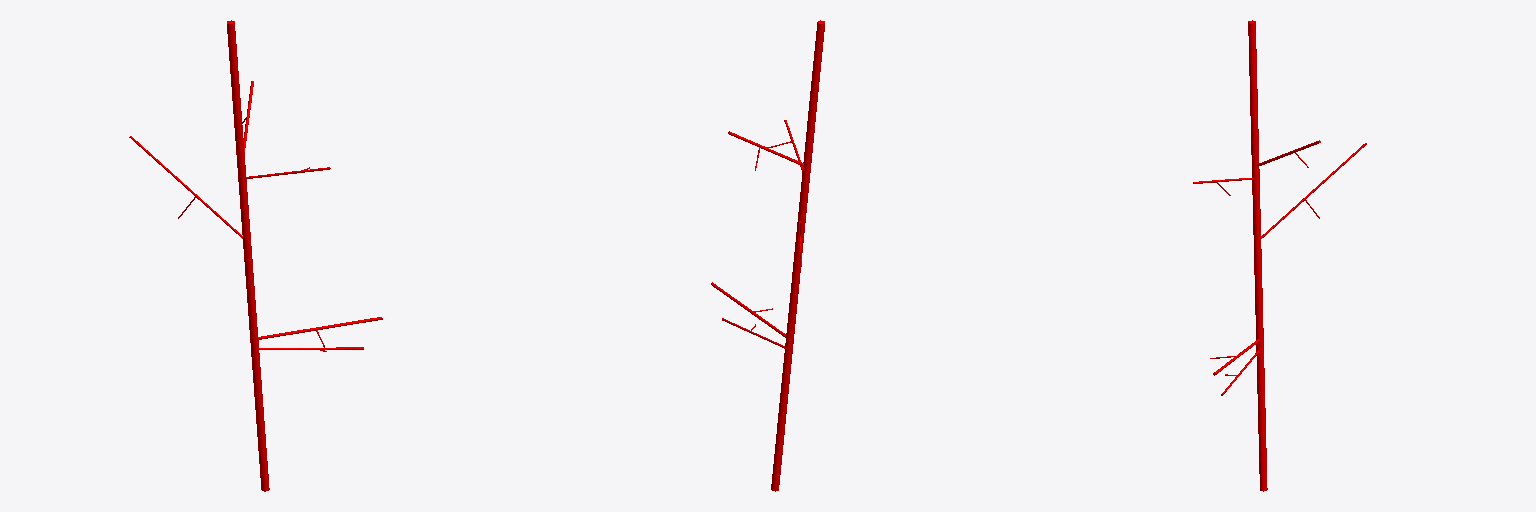
URDF robot description (tree_33.urdf):
<?xml version='1.0' encoding='UTF-8'?>
<robot name="tree_33.urdf">
  <link name="branch_0">
    <inertial>
      <origin xyz="0.0 0.0 0.0" rpy="0.0 -0.0 0.0"/>
      <mass value="0.1"/>
      <inertia ixx="0.001" ixy="0.0" ixz="0.0" iyy="0.001" iyz="0.0" izz="0.001"/>
    </inertial>
    <visual name="branch_0_visual">
      <geometry>
        <cylinder radius="0.05675759122214623" length="7.374856925056896"/>
      </geometry>
      <material name="semantic_material"/>
      <origin xyz="-0.3271929439132334 -0.08699261032029912 3.6718531737350233" rpy="0.0 0.09194417836399459 -2.8817289833350492"/>
    </visual>
    <collision name="branch_0_collision">
      <geometry>
        <cylinder radius="0.05675759122214623" length="7.374856925056896"/>
      </geometry>
      <origin xyz="-0.3271929439132334 -0.08699261032029912 3.6718531737350233" rpy="0.0 0.09194417836399459 -2.8817289833350492"/>
    </collision>
  </link>
  <link name="branch_1">
    <inertial>
      <origin xyz="0.0 0.0 0.0" rpy="0.0 -0.0 0.0"/>
      <mass value="0.1"/>
      <inertia ixx="0.001" ixy="0.0" ixz="0.0" iyy="0.001" iyz="0.0" izz="0.001"/>
    </inertial>
    <visual name="branch_1_visual">
      <geometry>
        <cylinder radius="0.017067360384932978" length="1.30695910070071"/>
      </geometry>
      <material name="semantic_material"/>
      <origin xyz="0.0 0.0 0.0" rpy="0.0 -0.0 0.0"/>
    </visual>
    <collision name="branch_1_collision">
      <geometry>
        <cylinder radius="0.017067360384932978" length="1.30695910070071"/>
      </geometry>
      <origin xyz="0.0 0.0 0.0" rpy="0.0 -0.0 0.0"/>
    </collision>
  </link>
  <link name="branch_2">
    <inertial>
      <origin xyz="0.0 0.0 0.0" rpy="0.0 -0.0 0.0"/>
      <mass value="0.1"/>
      <inertia ixx="0.001" ixy="0.0" ixz="0.0" iyy="0.001" iyz="0.0" izz="0.001"/>
    </inertial>
    <visual name="branch_2_visual">
      <geometry>
        <cylinder radius="0.01" length="0.3769168148098221"/>
      </geometry>
      <material name="semantic_material"/>
      <origin xyz="0.0 0.0 0.0" rpy="0.0 -0.0 0.0"/>
    </visual>
    <collision name="branch_2_collision">
      <geometry>
        <cylinder radius="0.01" length="0.3769168148098221"/>
      </geometry>
      <origin xyz="0.0 0.0 0.0" rpy="0.0 -0.0 0.0"/>
    </collision>
  </link>
  <link name="branch_3">
    <inertial>
      <origin xyz="0.0 0.0 0.0" rpy="0.0 -0.0 0.0"/>
      <mass value="0.1"/>
      <inertia ixx="0.001" ixy="0.0" ixz="0.0" iyy="0.001" iyz="0.0" izz="0.001"/>
    </inertial>
    <visual name="branch_3_visual">
      <geometry>
        <cylinder radius="0.016133045107916175" length="1.5152796728346354"/>
      </geometry>
      <material name="semantic_material"/>
      <origin xyz="0.0 0.0 0.0" rpy="0.0 -0.0 0.0"/>
    </visual>
    <collision name="branch_3_collision">
      <geometry>
        <cylinder radius="0.016133045107916175" length="1.5152796728346354"/>
      </geometry>
      <origin xyz="0.0 0.0 0.0" rpy="0.0 -0.0 0.0"/>
    </collision>
  </link>
  <link name="branch_4">
    <inertial>
      <origin xyz="0.0 0.0 0.0" rpy="0.0 -0.0 0.0"/>
      <mass value="0.1"/>
      <inertia ixx="0.001" ixy="0.0" ixz="0.0" iyy="0.001" iyz="0.0" izz="0.001"/>
    </inertial>
    <visual name="branch_4_visual">
      <geometry>
        <cylinder radius="0.01" length="0.19623205084725467"/>
      </geometry>
      <material name="semantic_material"/>
      <origin xyz="0.0 0.0 0.0" rpy="0.0 -0.0 0.0"/>
    </visual>
    <collision name="branch_4_collision">
      <geometry>
        <cylinder radius="0.01" length="0.19623205084725467"/>
      </geometry>
      <origin xyz="0.0 0.0 0.0" rpy="0.0 -0.0 0.0"/>
    </collision>
  </link>
  <link name="branch_5">
    <inertial>
      <origin xyz="0.0 0.0 0.0" rpy="0.0 -0.0 0.0"/>
      <mass value="0.1"/>
      <inertia ixx="0.001" ixy="0.0" ixz="0.0" iyy="0.001" iyz="0.0" izz="0.001"/>
    </inertial>
    <visual name="branch_5_visual">
      <geometry>
        <cylinder radius="0.01684410649635454" length="2.199097986416266"/>
      </geometry>
      <material name="semantic_material"/>
      <origin xyz="0.0 0.0 0.0" rpy="0.0 -0.0 0.0"/>
    </visual>
    <collision name="branch_5_collision">
      <geometry>
        <cylinder radius="0.01684410649635454" length="2.199097986416266"/>
      </geometry>
      <origin xyz="0.0 0.0 0.0" rpy="0.0 -0.0 0.0"/>
    </collision>
  </link>
  <link name="branch_6">
    <inertial>
      <origin xyz="0.0 0.0 0.0" rpy="0.0 -0.0 0.0"/>
      <mass value="0.1"/>
      <inertia ixx="0.001" ixy="0.0" ixz="0.0" iyy="0.001" iyz="0.0" izz="0.001"/>
    </inertial>
    <visual name="branch_6_visual">
      <geometry>
        <cylinder radius="0.01" length="0.4798356065524599"/>
      </geometry>
      <material name="semantic_material"/>
      <origin xyz="0.0 0.0 0.0" rpy="0.0 -0.0 0.0"/>
    </visual>
    <collision name="branch_6_collision">
      <geometry>
        <cylinder radius="0.01" length="0.4798356065524599"/>
      </geometry>
      <origin xyz="0.0 0.0 0.0" rpy="0.0 -0.0 0.0"/>
    </collision>
  </link>
  <link name="branch_7">
    <inertial>
      <origin xyz="0.0 0.0 0.0" rpy="0.0 -0.0 0.0"/>
      <mass value="0.1"/>
      <inertia ixx="0.001" ixy="0.0" ixz="0.0" iyy="0.001" iyz="0.0" izz="0.001"/>
    </inertial>
    <visual name="branch_7_visual">
      <geometry>
        <cylinder radius="0.021659047018543823" length="1.4042437923553426"/>
      </geometry>
      <material name="semantic_material"/>
      <origin xyz="0.0 0.0 0.0" rpy="0.0 -0.0 0.0"/>
    </visual>
    <collision name="branch_7_collision">
      <geometry>
        <cylinder radius="0.021659047018543823" length="1.4042437923553426"/>
      </geometry>
      <origin xyz="0.0 0.0 0.0" rpy="0.0 -0.0 0.0"/>
    </collision>
  </link>
  <link name="branch_8">
    <inertial>
      <origin xyz="0.0 0.0 0.0" rpy="0.0 -0.0 0.0"/>
      <mass value="0.1"/>
      <inertia ixx="0.001" ixy="0.0" ixz="0.0" iyy="0.001" iyz="0.0" izz="0.001"/>
    </inertial>
    <visual name="branch_8_visual">
      <geometry>
        <cylinder radius="0.01" length="0.3535951457643739"/>
      </geometry>
      <material name="semantic_material"/>
      <origin xyz="0.0 0.0 0.0" rpy="0.0 -0.0 0.0"/>
    </visual>
    <collision name="branch_8_collision">
      <geometry>
        <cylinder radius="0.01" length="0.3535951457643739"/>
      </geometry>
      <origin xyz="0.0 0.0 0.0" rpy="0.0 -0.0 0.0"/>
    </collision>
  </link>
  <link name="branch_9">
    <inertial>
      <origin xyz="0.0 0.0 0.0" rpy="0.0 -0.0 0.0"/>
      <mass value="0.1"/>
      <inertia ixx="0.001" ixy="0.0" ixz="0.0" iyy="0.001" iyz="0.0" izz="0.001"/>
    </inertial>
    <visual name="branch_9_visual">
      <geometry>
        <cylinder radius="0.021875398472397067" length="1.7990960588732632"/>
      </geometry>
      <material name="semantic_material"/>
      <origin xyz="0.0 0.0 0.0" rpy="0.0 -0.0 0.0"/>
    </visual>
    <collision name="branch_9_collision">
      <geometry>
        <cylinder radius="0.021875398472397067" length="1.7990960588732632"/>
      </geometry>
      <origin xyz="0.0 0.0 0.0" rpy="0.0 -0.0 0.0"/>
    </collision>
  </link>
  <link name="branch_10">
    <inertial>
      <origin xyz="0.0 0.0 0.0" rpy="0.0 -0.0 0.0"/>
      <mass value="0.1"/>
      <inertia ixx="0.001" ixy="0.0" ixz="0.0" iyy="0.001" iyz="0.0" izz="0.001"/>
    </inertial>
    <visual name="branch_10_visual">
      <geometry>
        <cylinder radius="0.01" length="0.42755599358840485"/>
      </geometry>
      <material name="semantic_material"/>
      <origin xyz="0.0 0.0 0.0" rpy="0.0 -0.0 0.0"/>
    </visual>
    <collision name="branch_10_collision">
      <geometry>
        <cylinder radius="0.01" length="0.42755599358840485"/>
      </geometry>
      <origin xyz="0.0 0.0 0.0" rpy="0.0 -0.0 0.0"/>
    </collision>
  </link>
  <joint name="joint_0_1" type="fixed">
    <parent link="branch_0"/>
    <child link="branch_1"/>
    <axis xyz="1. 0. 0."/>
    <origin xyz="-0.0027489558142484013 -0.5774163720917997 5.052545795567461" rpy="0.3106454404244492 1.3059195354444668 -0.4962450052936494"/>
  </joint>
  <joint name="joint_0_3" type="fixed">
    <parent link="branch_0"/>
    <child link="branch_3"/>
    <axis xyz="1. 0. 0."/>
    <origin xyz="0.5056543322397139 -0.333417888450111 2.1613747217567494" rpy="2.3798497171495523 1.490628032138012 1.9973613894220275"/>
  </joint>
  <joint name="joint_0_5" type="fixed">
    <parent link="branch_0"/>
    <child link="branch_5"/>
    <axis xyz="1. 0. 0."/>
    <origin xyz="-0.81478074253377 0.7143177581978861 4.4838844056002465" rpy="-0.16783764191976025 1.0029666619673452 1.897379874692139"/>
  </joint>
  <joint name="joint_0_7" type="fixed">
    <parent link="branch_0"/>
    <child link="branch_7"/>
    <axis xyz="1. 0. 0."/>
    <origin xyz="-0.09000040139063456 0.3535829972644348 5.446641552778933" rpy="-0.10172615570386123 1.0119624327828411 0.7981524586731679"/>
  </joint>
  <joint name="joint_0_9" type="fixed">
    <parent link="branch_0"/>
    <child link="branch_9"/>
    <axis xyz="1. 0. 0."/>
    <origin xyz="0.617741788975407 -0.3912507311803847 2.466788695255232" rpy="0.44765162045287704 1.4437599233535074 0.06627616457397255"/>
  </joint>
  <joint name="joint_1_2" type="fixed">
    <parent link="branch_0"/>
    <child link="branch_2"/>
    <axis xyz="1. 0. 0."/>
    <origin xyz="0.267930464503003 -0.6023602824425479 5.0508117455236725" rpy="1.8317901646763628 0.2742877846769178 2.2411391152415443"/>
  </joint>
  <joint name="joint_3_4" type="fixed">
    <parent link="branch_0"/>
    <child link="branch_4"/>
    <axis xyz="1. 0. 0."/>
    <origin xyz="0.6283614482778944 -0.4749996668379271 2.1673393454653067" rpy="-1.4369500254410188 -0.13369383652398664 -3.050641671117863"/>
  </joint>
  <joint name="joint_5_6" type="fixed">
    <parent link="branch_0"/>
    <child link="branch_6"/>
    <axis xyz="1. 0. 0."/>
    <origin xyz="-0.8315740555313661 0.7161154300008831 4.207883126728366" rpy="3.0830045362060927 0.6032379874194567 -1.0489517992438784"/>
  </joint>
  <joint name="joint_7_8" type="fixed">
    <parent link="branch_0"/>
    <child link="branch_8"/>
    <axis xyz="1. 0. 0."/>
    <origin xyz="-0.038681276465205354 0.5547221153740807 5.38126293540688" rpy="2.6825711169663156 0.48221771583292106 -2.1807463420585593"/>
  </joint>
  <joint name="joint_9_10" type="fixed">
    <parent link="branch_0"/>
    <child link="branch_10"/>
    <axis xyz="1. 0. 0."/>
    <origin xyz="0.5382293162948091 -0.5825881596886953 2.419572056157061" rpy="-1.7782158269665846 0.13878512581135916 2.869472571696741"/>
  </joint>
  <material name="semantic_material">
    <color rgba="1. 0. 0. 1."/>
  </material>
</robot>

--- Facts derived from the render (not from the file) ---
The picture shows the robot from 3 angles, left to right: view 1: azimuth 30°, elevation 25°; view 2: azimuth 150°, elevation 25°; view 3: azimuth 270°, elevation 25°; orthographic projection.
Robot: tree_33.urdf — 11 links, 10 joints (10 fixed); root link branch_0; default pose: every joint at zero.
Visible links, largest first — view 1: branch_0; view 2: branch_0; view 3: branch_0.
Link boxes in pixels (x1,y1,x2,y2): branch_0: [227, 20, 269, 491]; branch_0: [771, 20, 824, 491]; branch_0: [1248, 20, 1267, 491].
Bounding box of the posed robot: 2.75 × 2.58 × 7.35 m (x, y, z).
Geometry: primitives only (box / cylinder / sphere), no mesh files.
